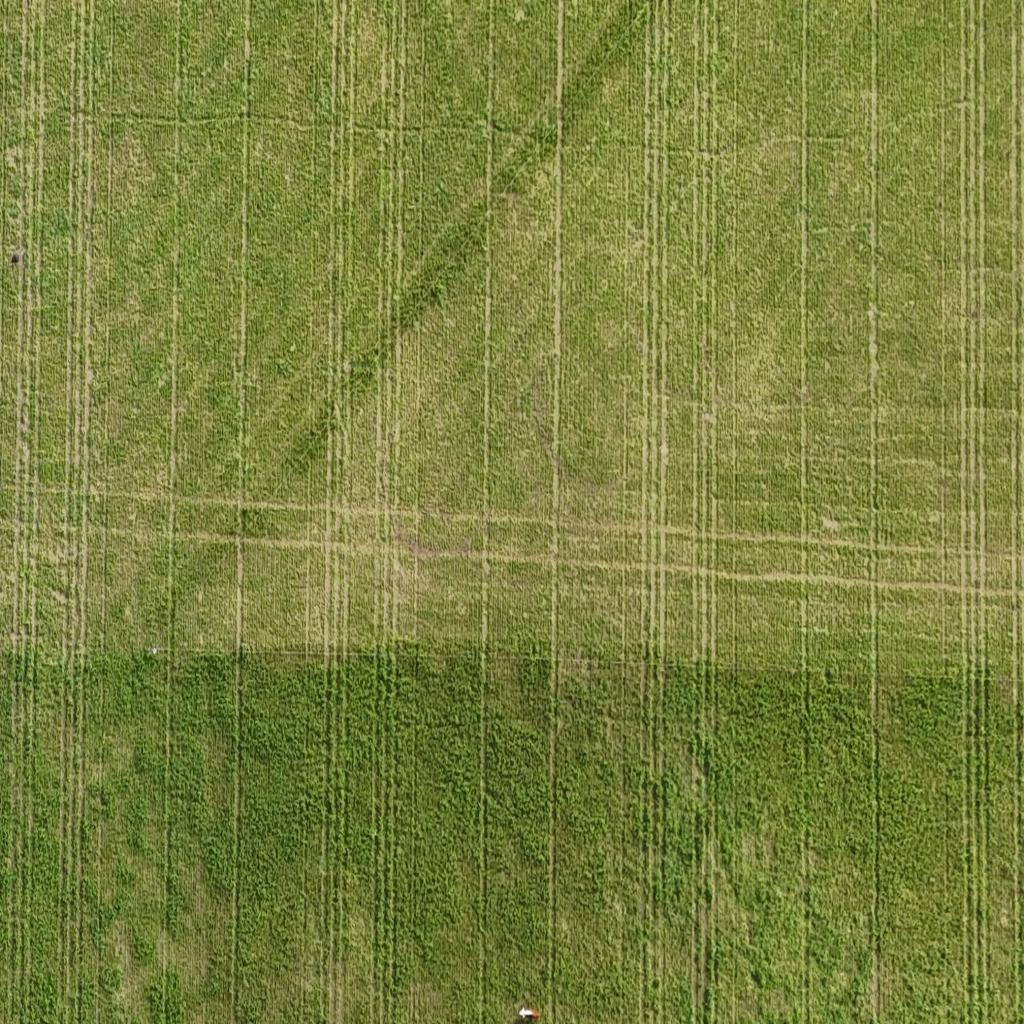cow: (517, 1003, 541, 1024)
